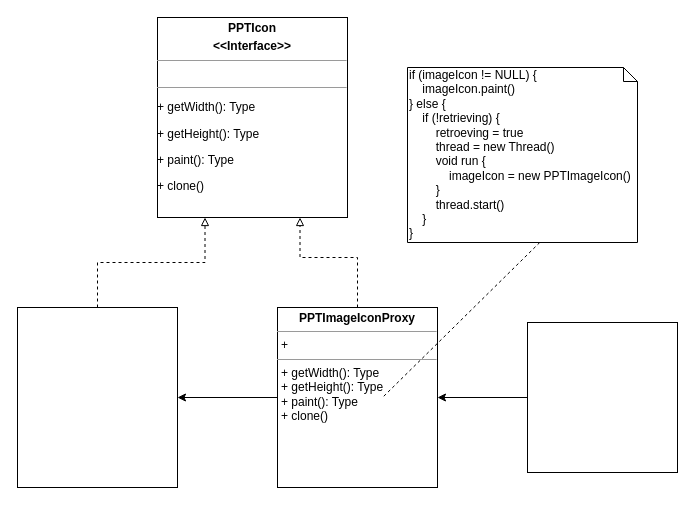
The diagram is 695 pixels wide and 505 high, and some of its shapes have lost their labels. Here are the shapes that lost their labels. From the top down, the centre of each, then its label:
the point at 97,397: PPTImageIcon - + getWidth(): Type + getHeight(): Type + paint(): Type + clone()
the point at 602,397: Client + m_icon_number
